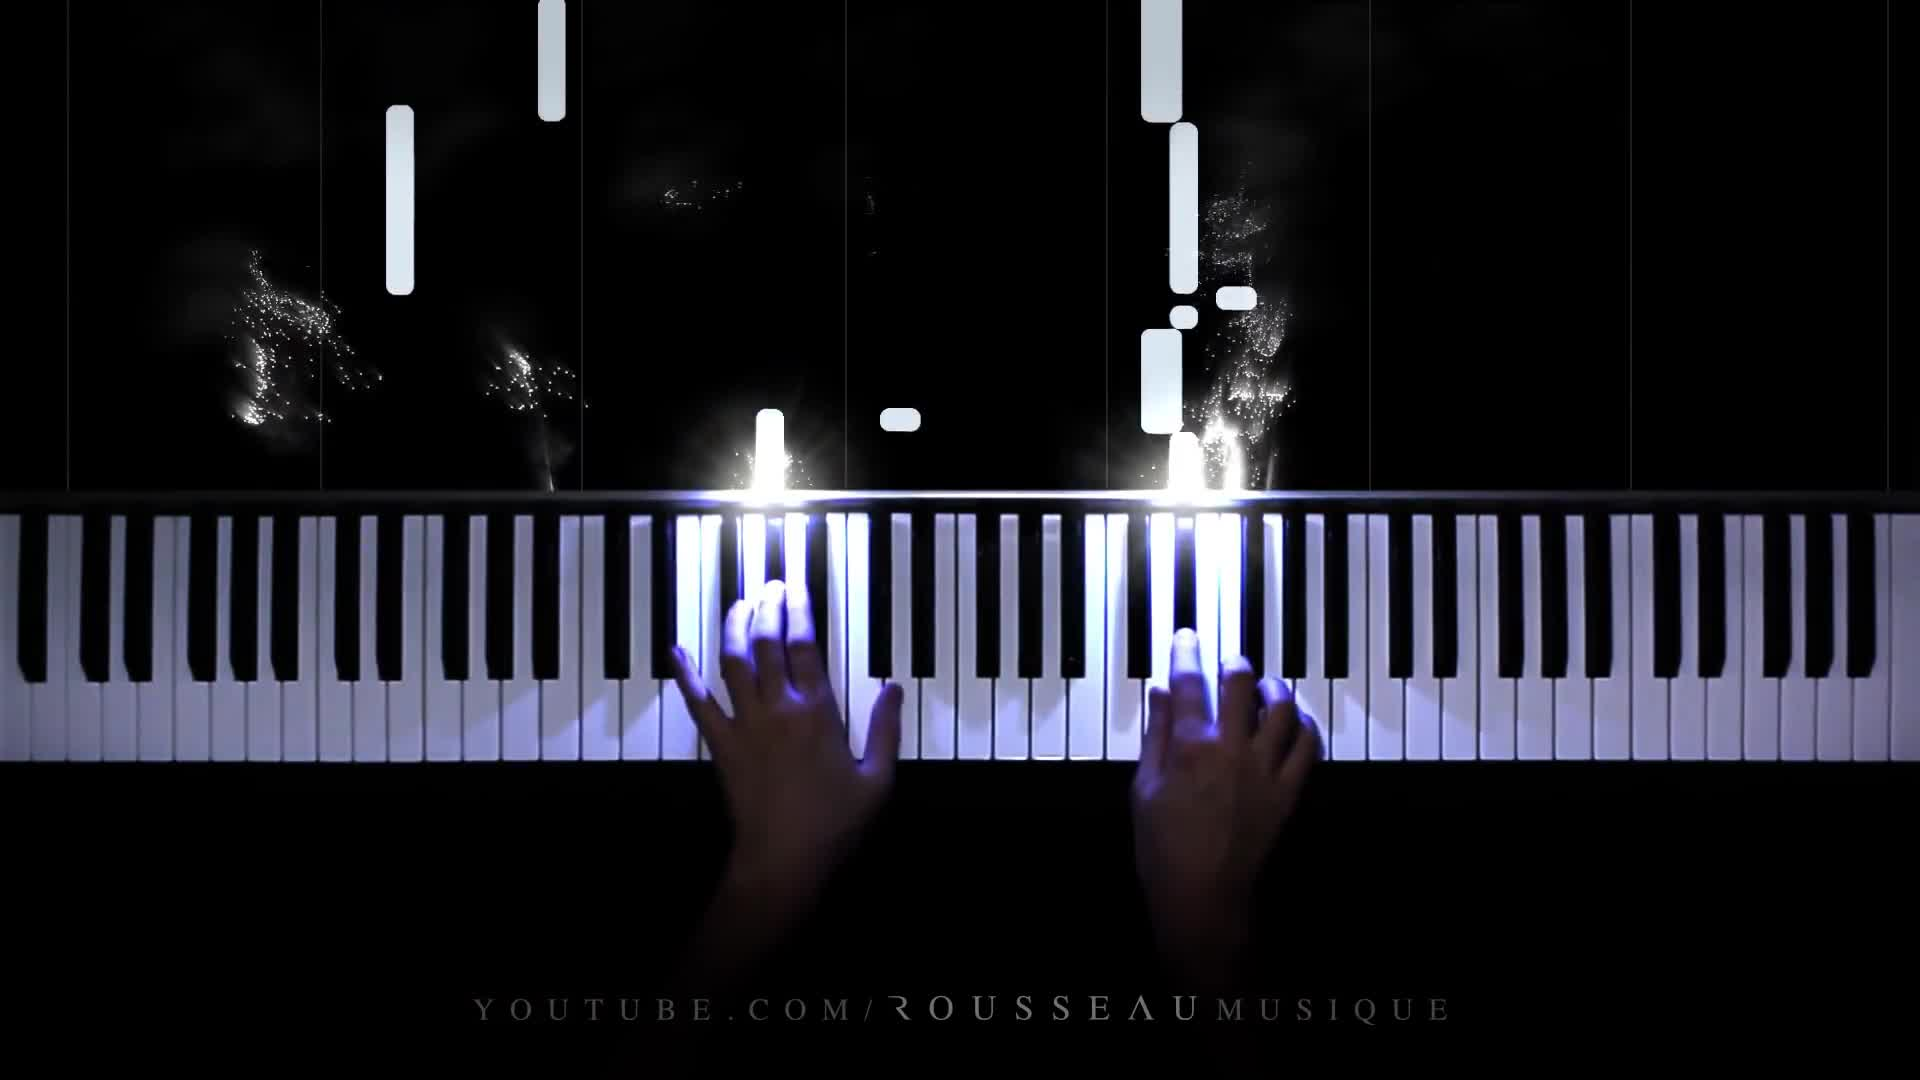left: (653, 576, 913, 853)
right: (1135, 624, 1325, 884)
